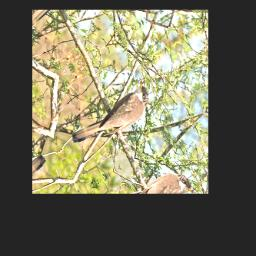Cuckoo: (66, 77, 156, 158)
